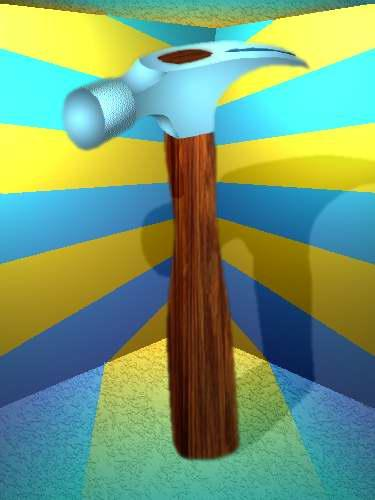hammer: (60, 37, 311, 460)
